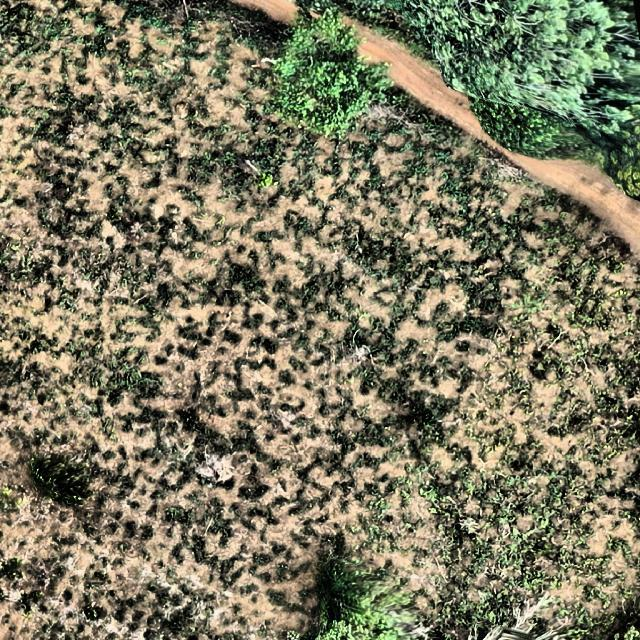Kelapa_Sawit: (311, 562, 391, 628), (28, 454, 92, 518)
